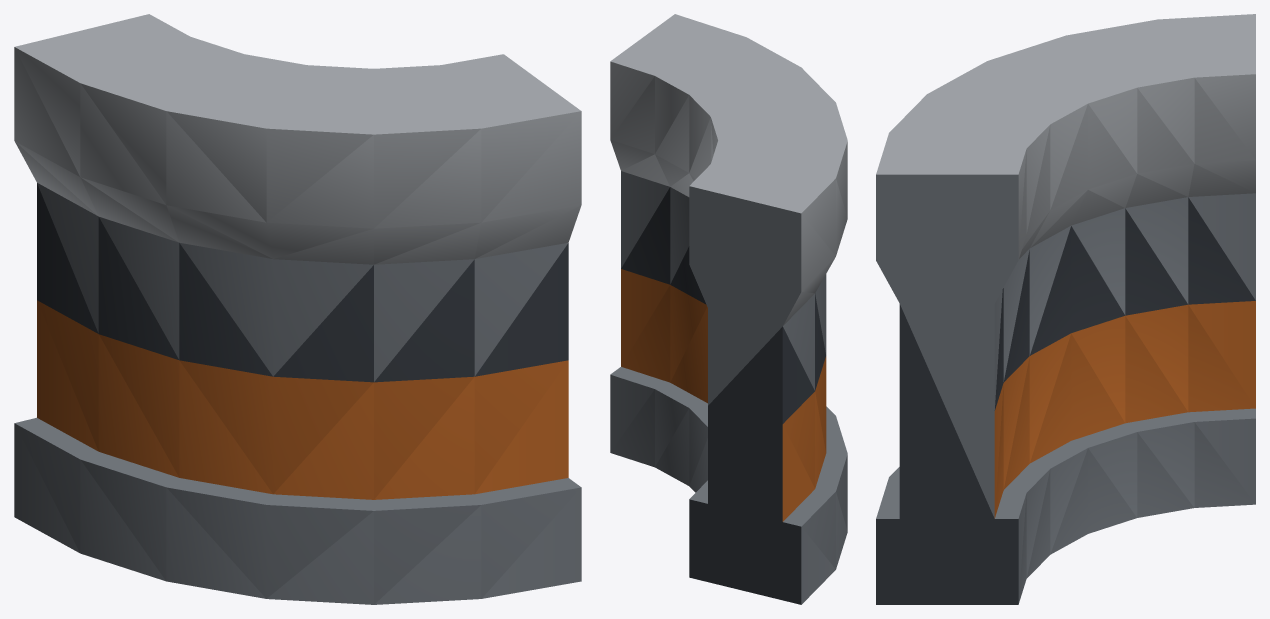
The model's file is Kit_wall-corner-round-banner.fbx.
3 renders of one model, left to right at view 1: azimuth 30°, elevation 25°; view 2: azimuth 150°, elevation 25°; view 3: azimuth 270°, elevation 25°, orthographic. The views are drawn at different scales.
Visible parts, largest first — view 1: Kit_wall-corner-round-banner; view 2: Kit_wall-corner-round-banner; view 3: Kit_wall-corner-round-banner.
Part boxes in pixels (x1,y1,x2,y2): Kit_wall-corner-round-banner: (14,14,581,604); Kit_wall-corner-round-banner: (610,14,847,604); Kit_wall-corner-round-banner: (876,14,1255,604).
Bounding box in the file's own units: 0.8 × 1 × 0.8.
